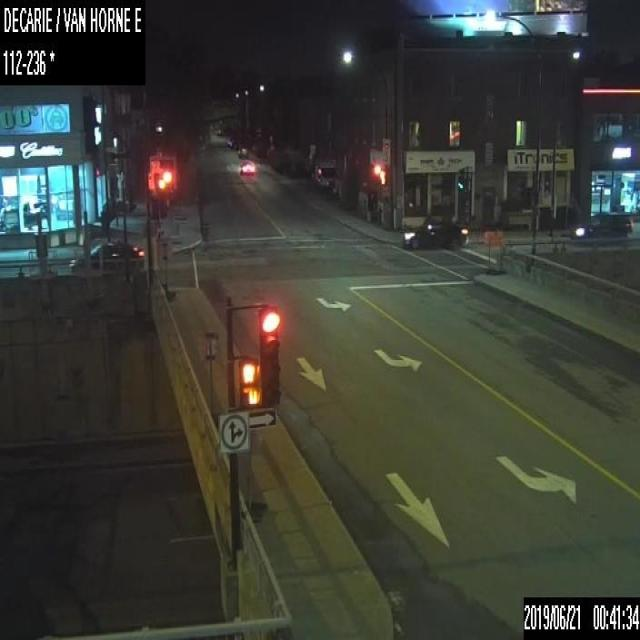construction: (242, 427, 267, 522), (198, 332, 221, 426), (158, 232, 175, 302), (492, 231, 502, 273), (483, 232, 491, 272)
vehicle: (406, 210, 468, 247), (69, 240, 144, 267), (572, 209, 634, 239), (314, 158, 334, 190), (239, 156, 254, 173), (238, 145, 247, 157), (229, 138, 238, 148)
